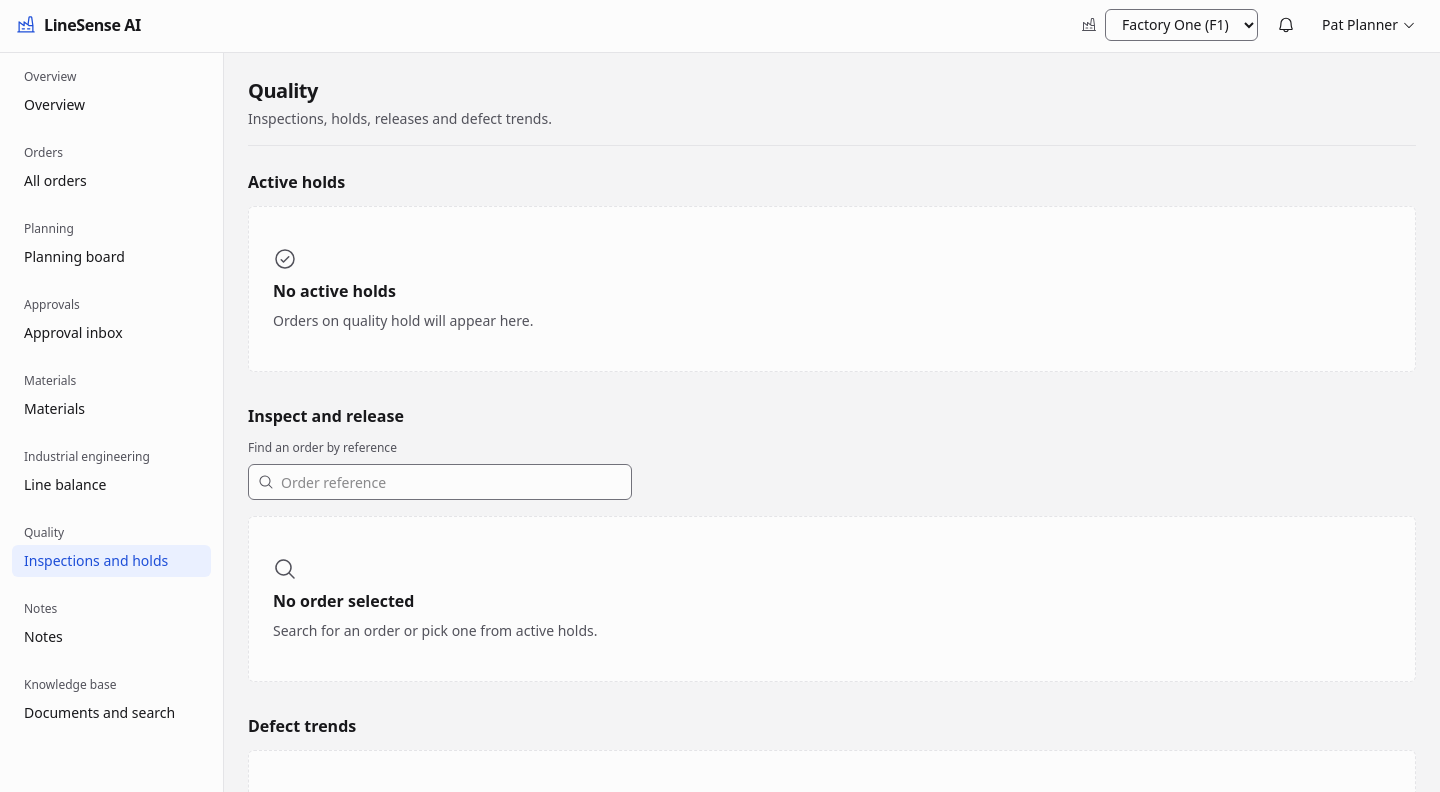
Test: ReleaseReview › shows the demo-policy label and allows release when the viewer did not inspect
This screenshot has width=1440, height=792.
Type "PO-3001" into the search field labelled "Find an order by reference" at (440, 482), box [248, 464, 632, 500]
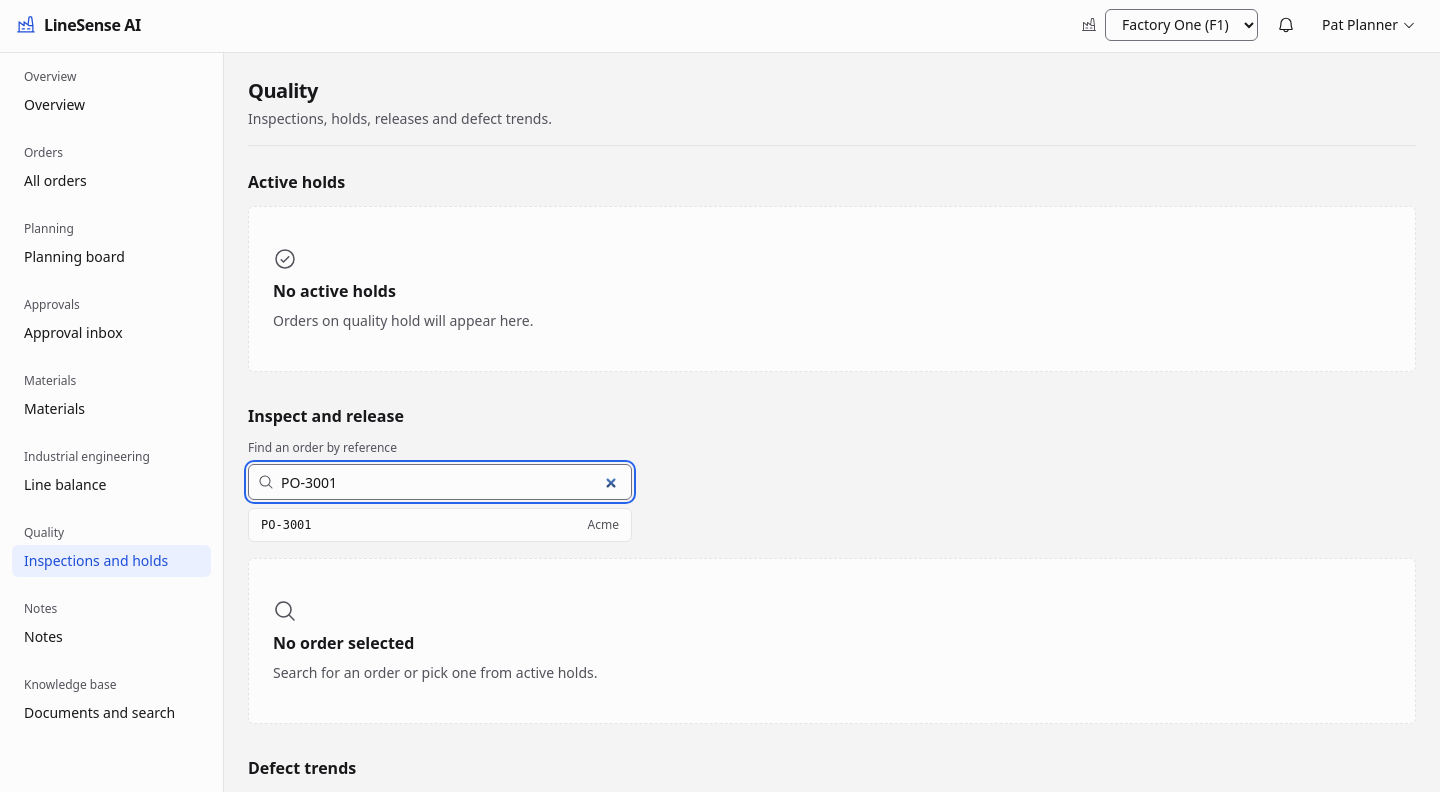
Click the button "PO-3001 Acme" at (286, 525), box [249, 509, 631, 541]
(page scrolled)
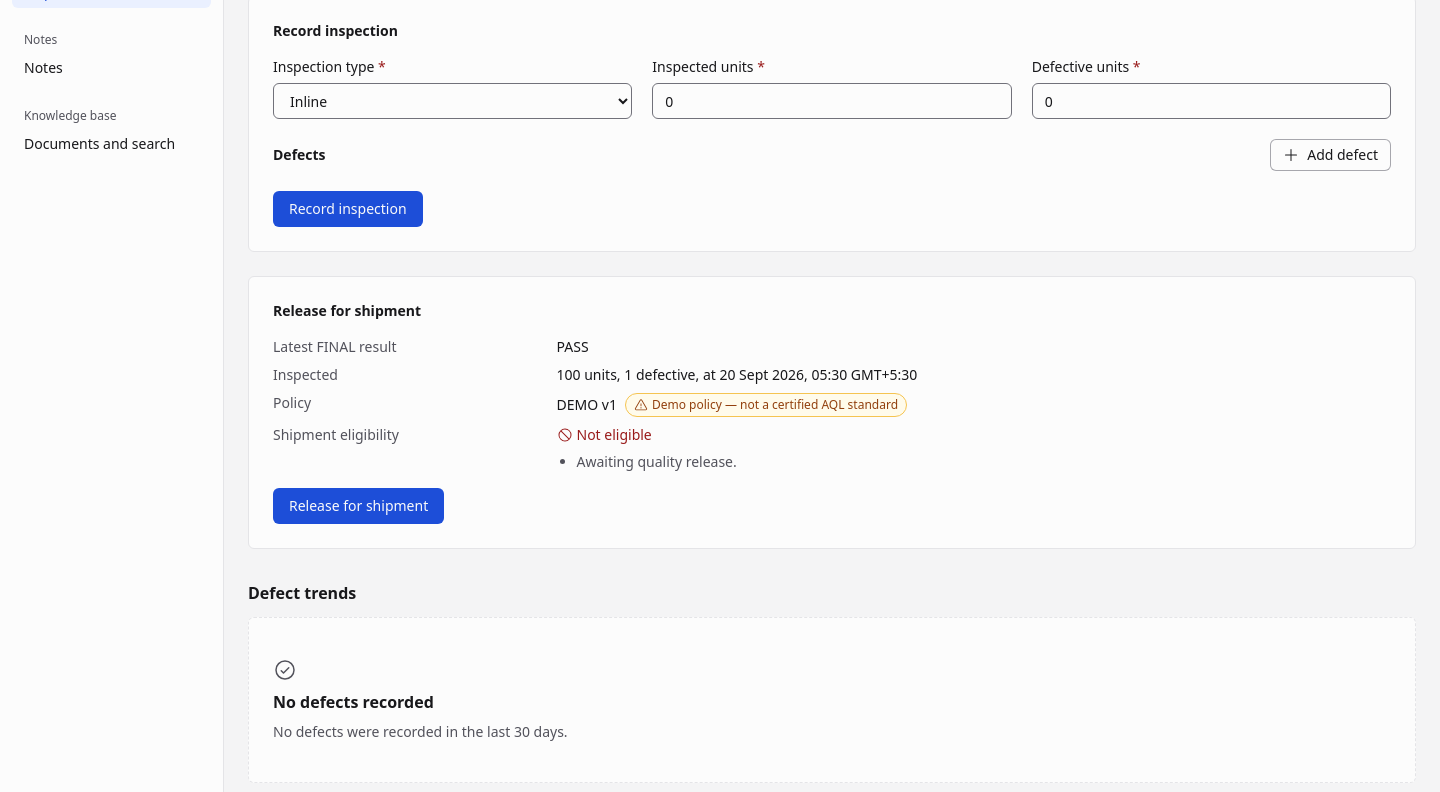
Now the heading "Release for shipment" is shown, box [273, 301, 421, 320]
Now the text "Demo policy — not a certified AQL standard" is shown, box [625, 393, 907, 417]
Now the button "Release for shipment" is enabled, box [273, 488, 444, 524]
